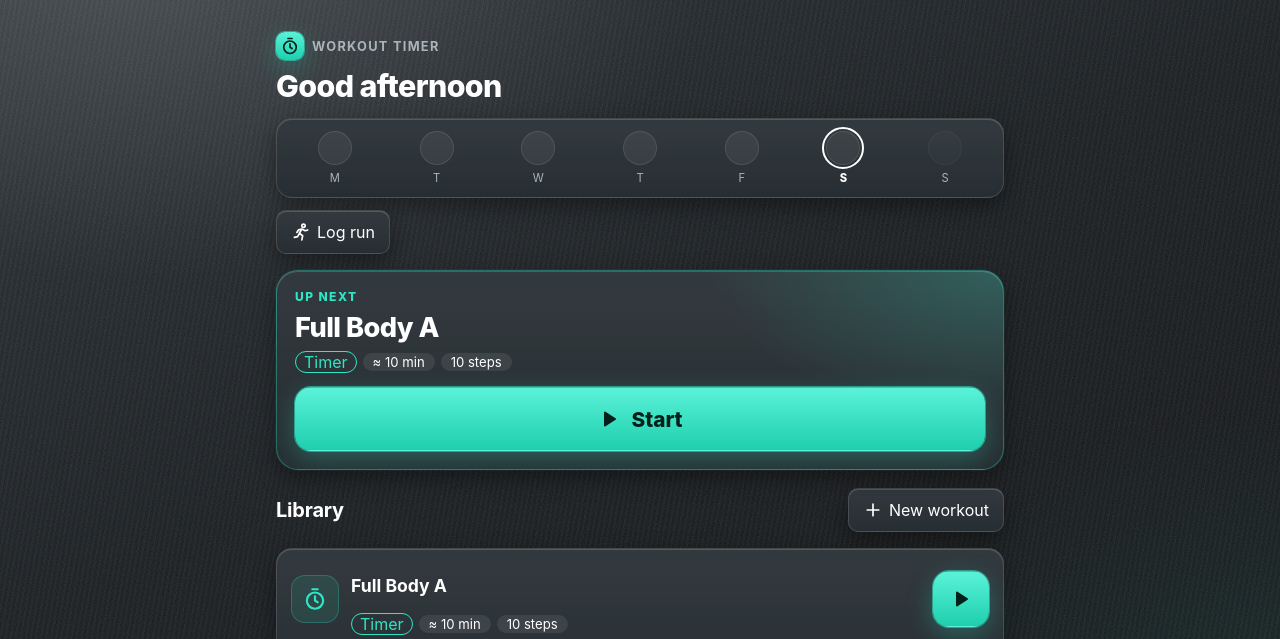
App › a workout created in the library is found by the editor it opens
Click the button "New workout": (926, 510) [848,488,1004,532]
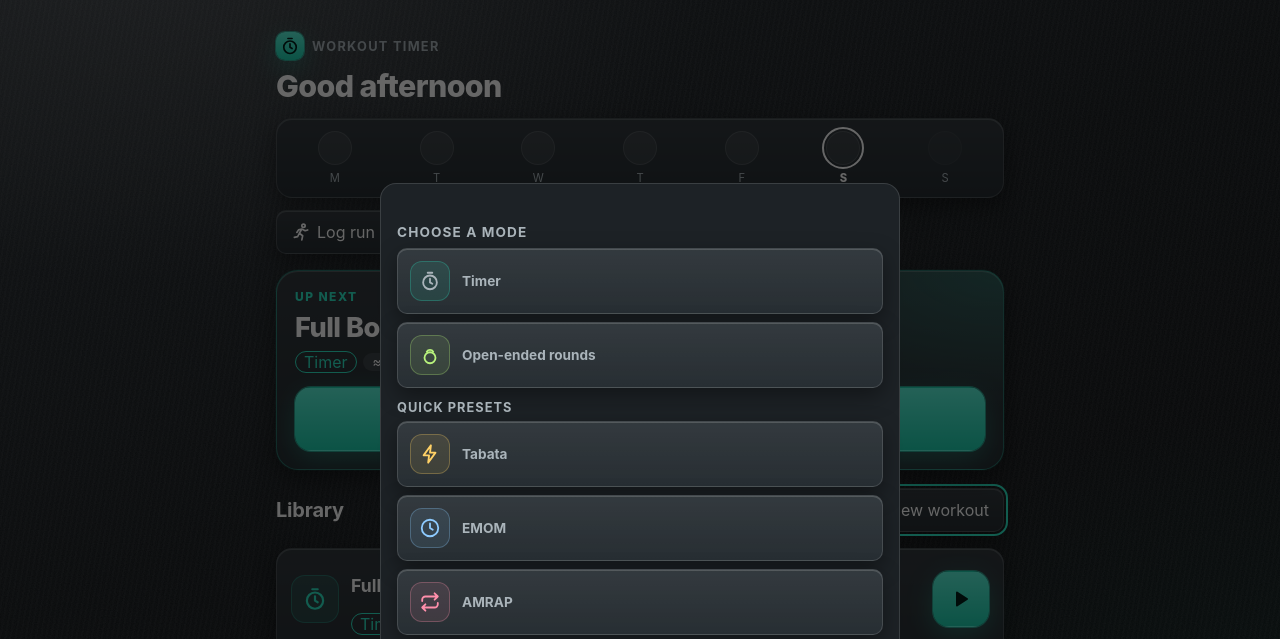
Click the button "Tabata": (430, 454) [397,421,883,487]
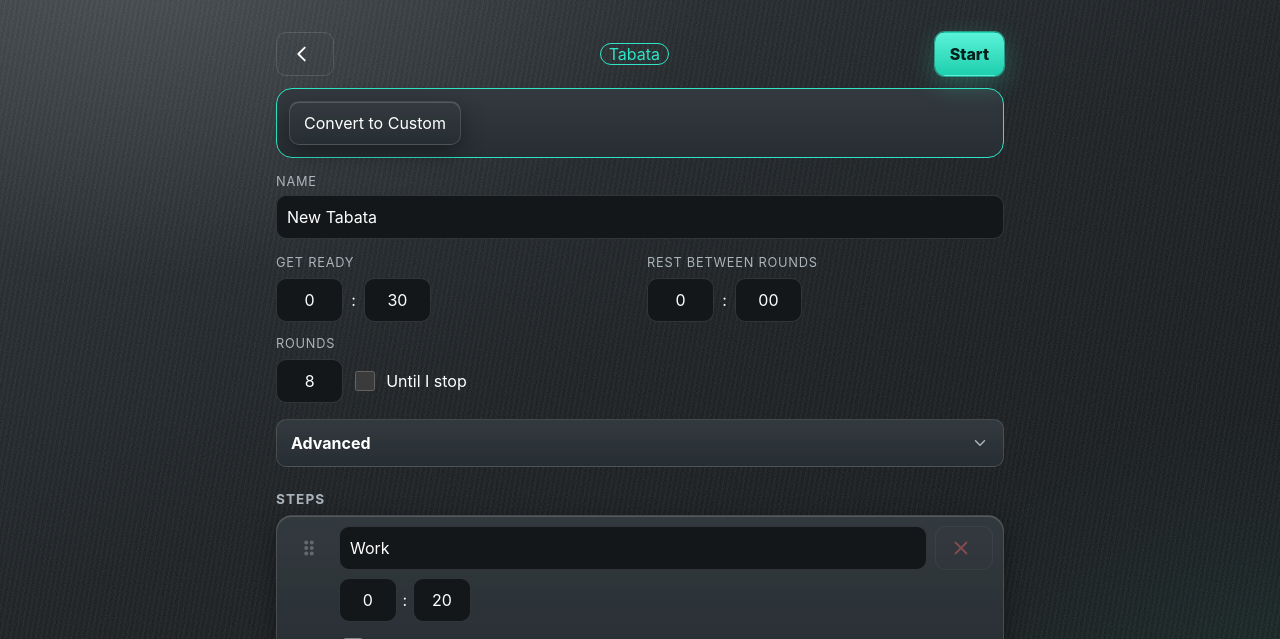
Now the field labelled "Name" holds "New Tabata", box [276,195,1004,239]
